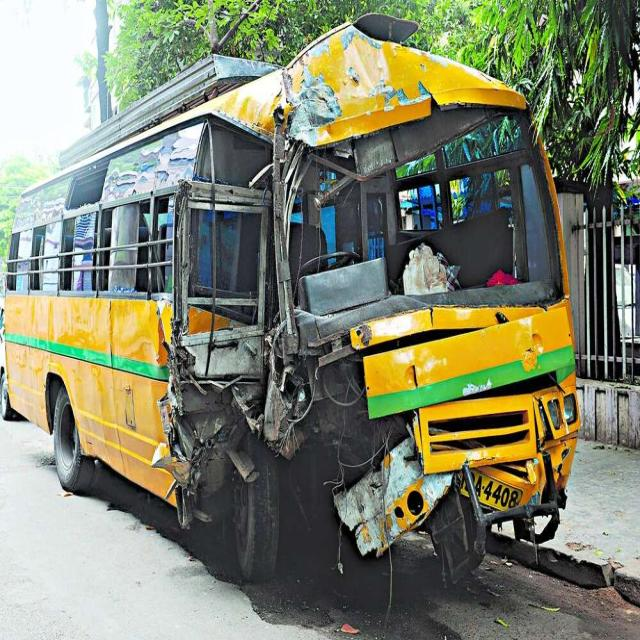accident: (5, 15, 580, 581)
